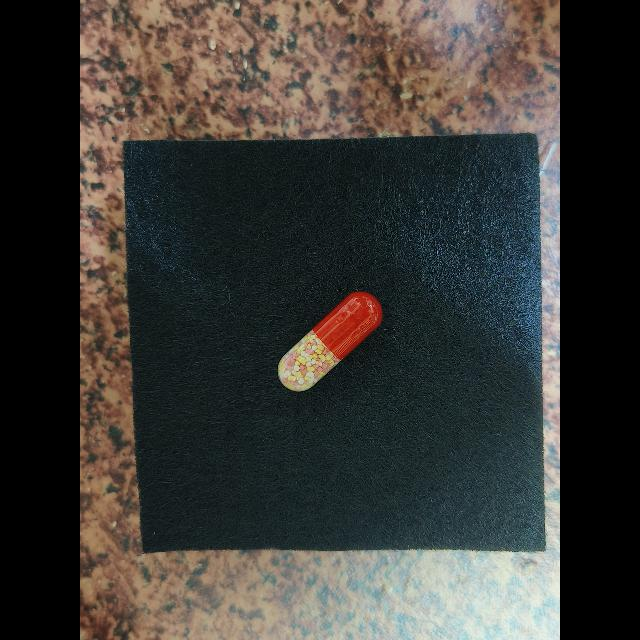Intact Capsule: (278, 291, 383, 391)
